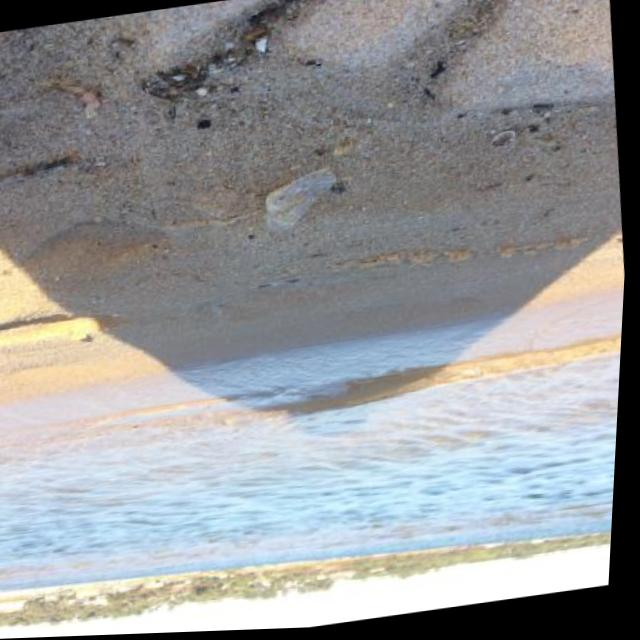plastic: (259, 166, 344, 232)
